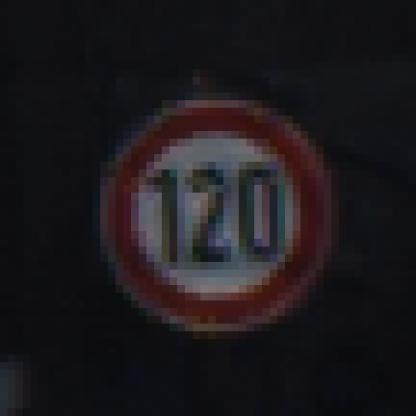Speed Limit 120: (106, 104, 328, 332)
